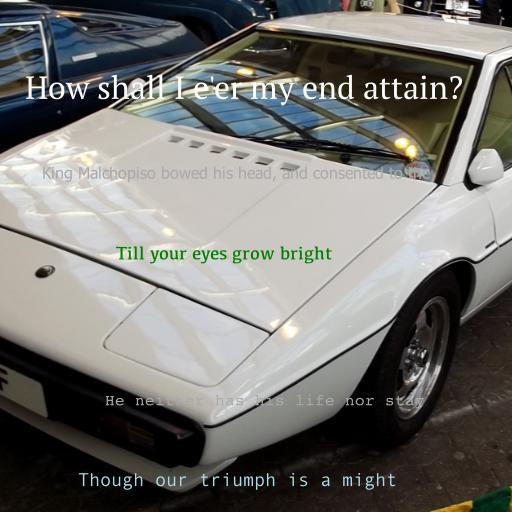Andale Mono: (77, 472, 397, 490)
Courier: (105, 394, 425, 409)
Kefa: (116, 246, 332, 264)
PT Serif: (25, 74, 463, 106)
Tahoma: (42, 166, 430, 183)
